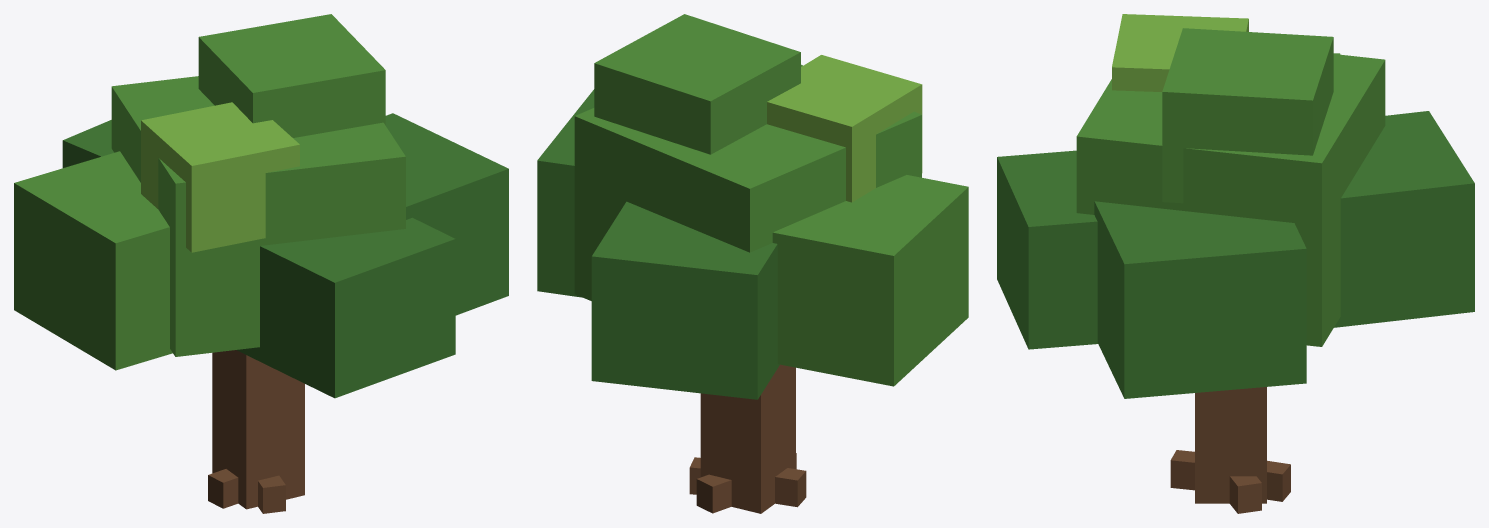
Rendered from A07_oak.obj.
3 renders of one model, left to right at view 1: azimuth 30°, elevation 25°; view 2: azimuth 150°, elevation 25°; view 3: azimuth 270°, elevation 25°, orthographic. The views are drawn at different scales.
Parts seen in each view (by area): view 1: A07_oak; view 2: A07_oak; view 3: A07_oak.
Boxes of the visible parts, x1=… form: A07_oak: x1=14, y1=14, x2=508, y2=513; A07_oak: x1=537, y1=14, x2=968, y2=513; A07_oak: x1=997, y1=14, x2=1474, y2=513.
Size of the model in its own units: 5.69 by 5.82 by 5.65.
